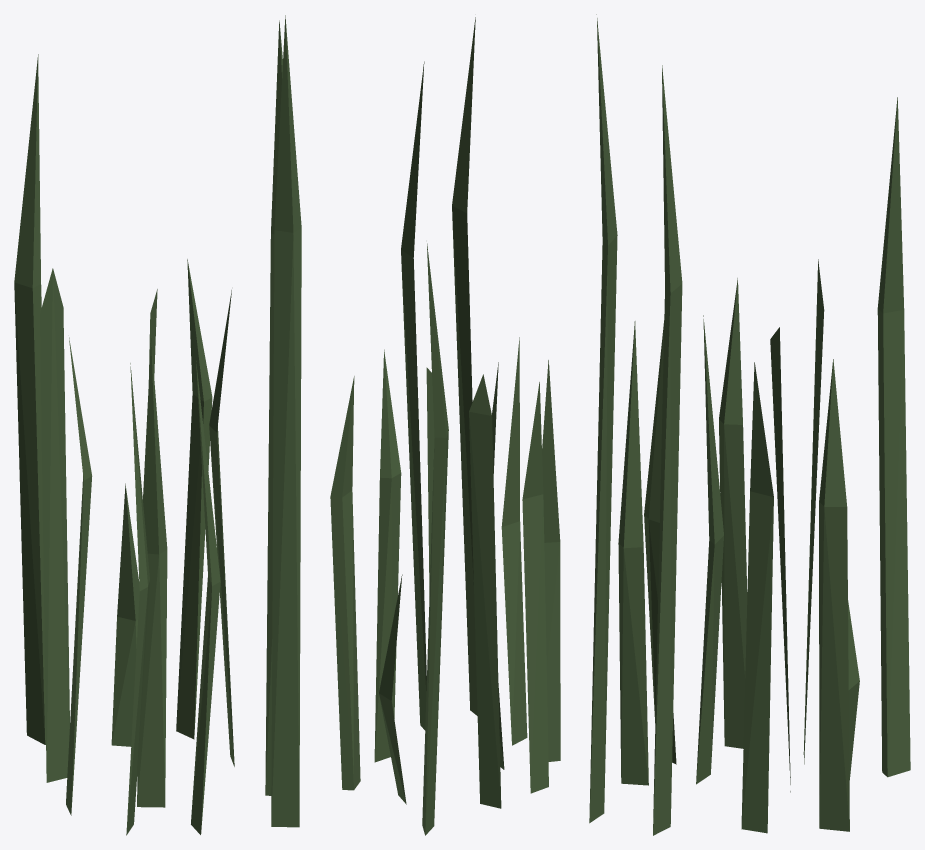
The model's file is Grass_2.lod1.glb.
The picture shows the model from 3 angles, left to right: view 1: azimuth 30°, elevation 25°; view 2: azimuth 150°, elevation 25°; view 3: azimuth 270°, elevation 25°; orthographic projection. The views are drawn at different scales.
Visible parts, largest first — view 1: Grass_2; view 2: Grass_2; view 3: Grass_2.
Boxes of the visible parts, bbox=[...] form: Grass_2: bbox=[14, 15, 301, 835]; Grass_2: bbox=[330, 17, 560, 835]; Grass_2: bbox=[589, 14, 910, 835].
Size of the model in its own units: 0.3076 by 1.2 by 0.4343.
